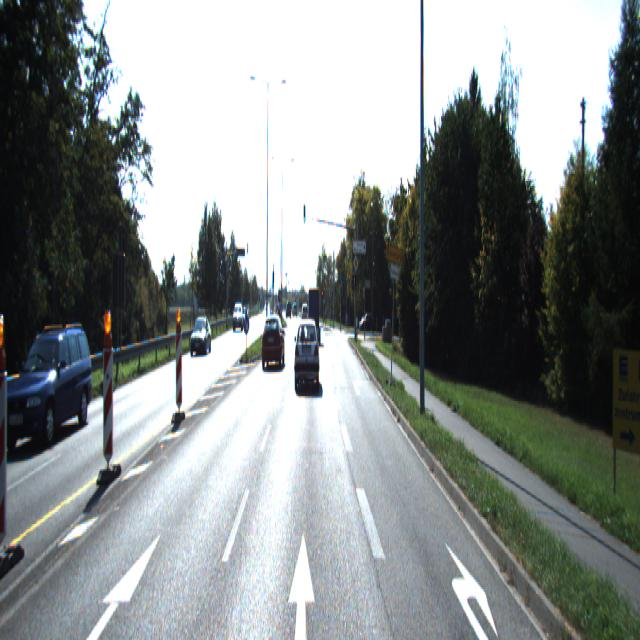Car: (1, 318, 96, 452), (295, 320, 320, 388), (261, 316, 286, 373), (190, 318, 212, 358), (308, 287, 321, 344)
